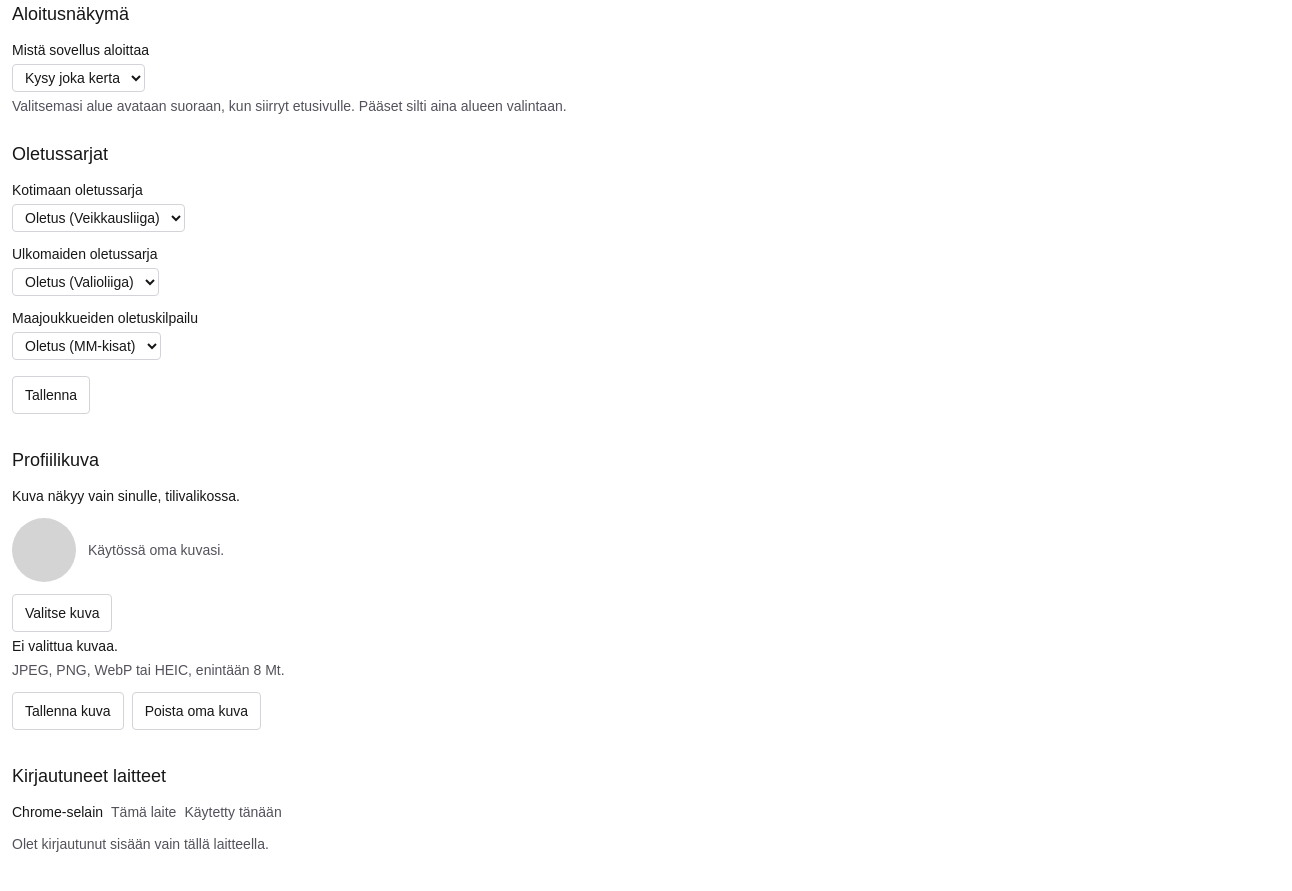
Test: Profiilikuva › keeps the picture when removal fails
Click the button "Poista oma kuva" at (196, 711), box x1=132 y1=692 x2=261 y2=730
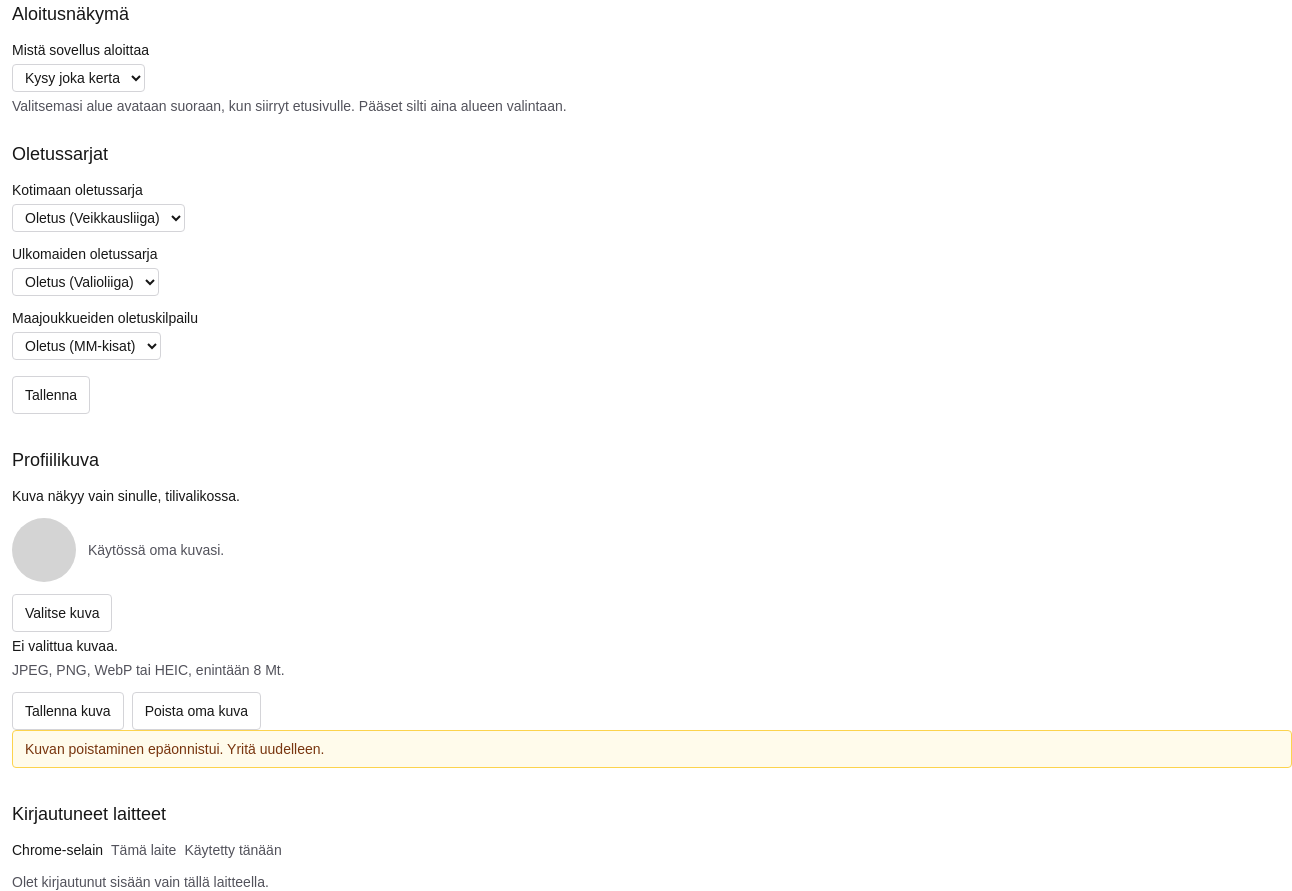
Check: the text "Kuvan poistaminen epäonnistui. Yritä uudelleen." is shown, box x1=12 y1=730 x2=1291 y2=768
